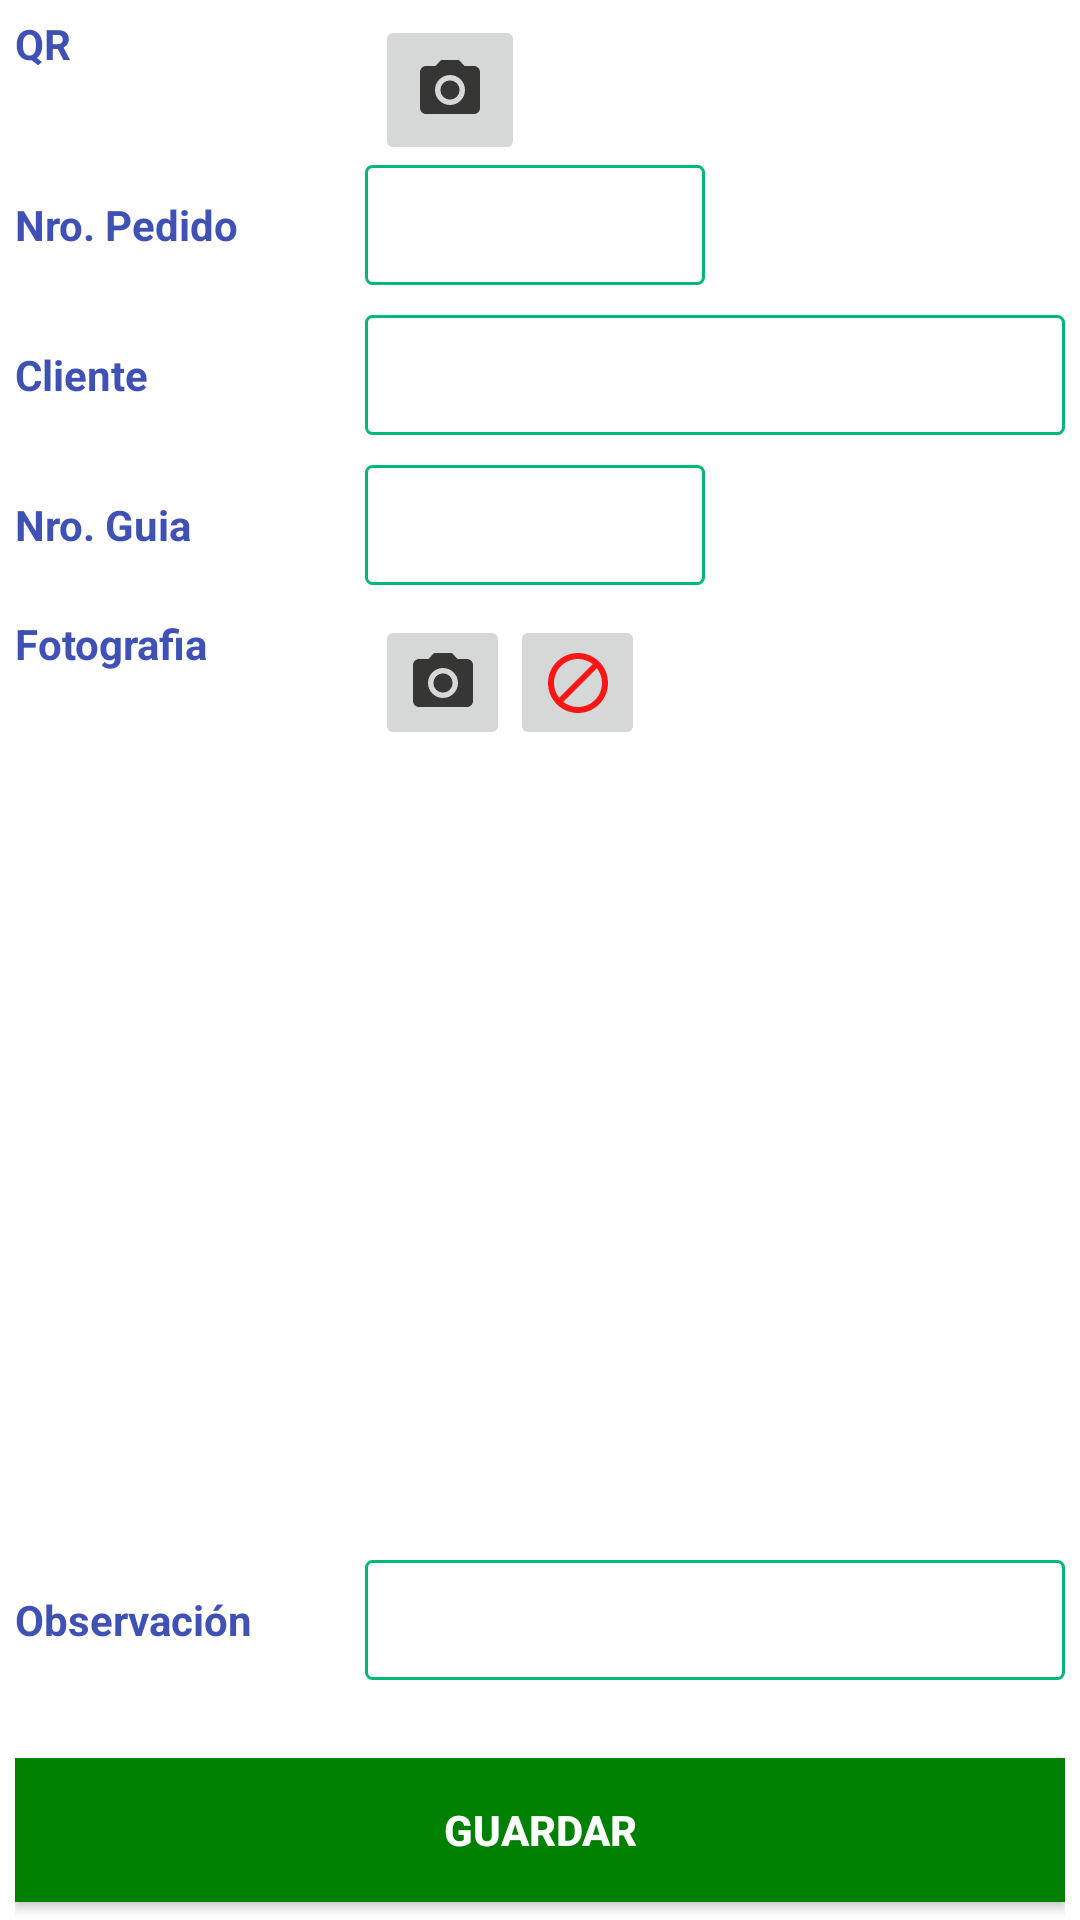

Icon click points for this 1080*1920 phone screenshot, format (x,y):
block: (577,682)
camera: (450,90), (442,682)
